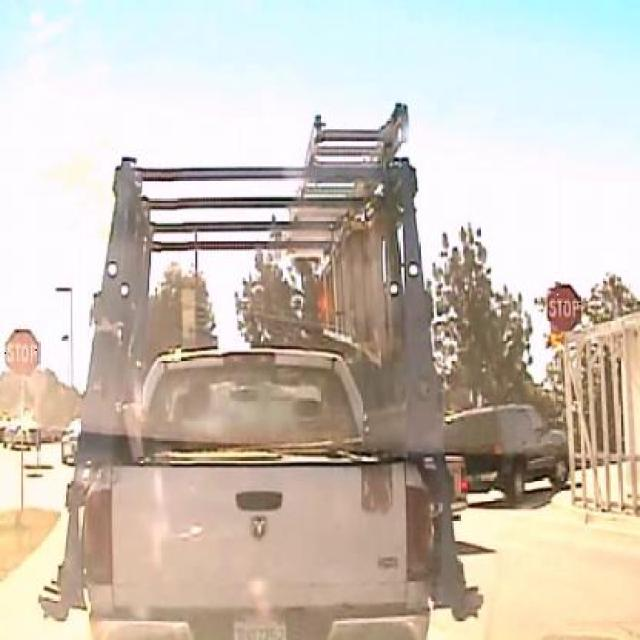stop: (544, 283, 580, 332), (3, 328, 39, 377)
